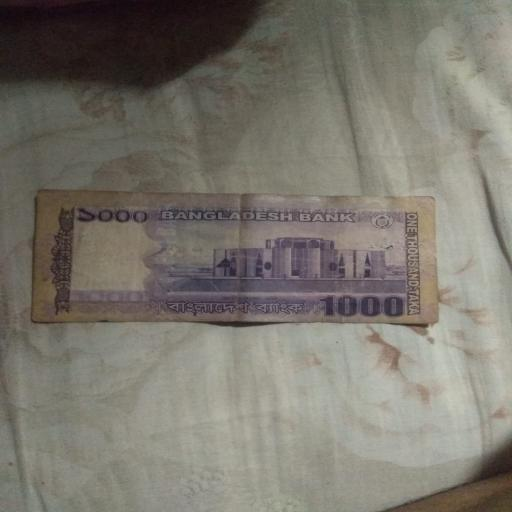1000taka: (32, 190, 438, 324)
